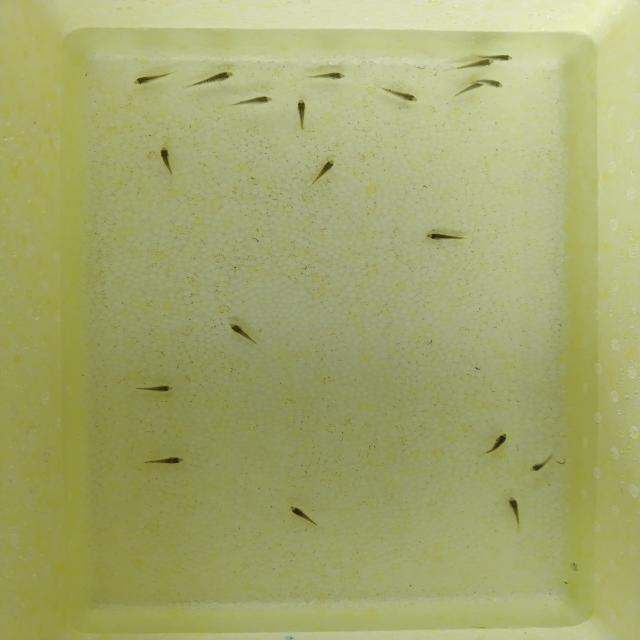fingerling: (500, 494, 528, 529), (375, 84, 423, 104), (191, 70, 241, 88), (308, 157, 342, 183), (228, 321, 264, 345), (285, 502, 317, 527), (421, 230, 470, 245), (127, 69, 170, 86), (232, 93, 280, 107), (289, 96, 311, 126), (307, 69, 350, 83), (144, 454, 186, 468), (488, 429, 508, 458), (156, 145, 178, 171), (133, 381, 179, 393), (528, 456, 551, 476), (482, 79, 516, 88), (457, 85, 481, 97), (488, 52, 520, 61), (472, 59, 497, 69)
